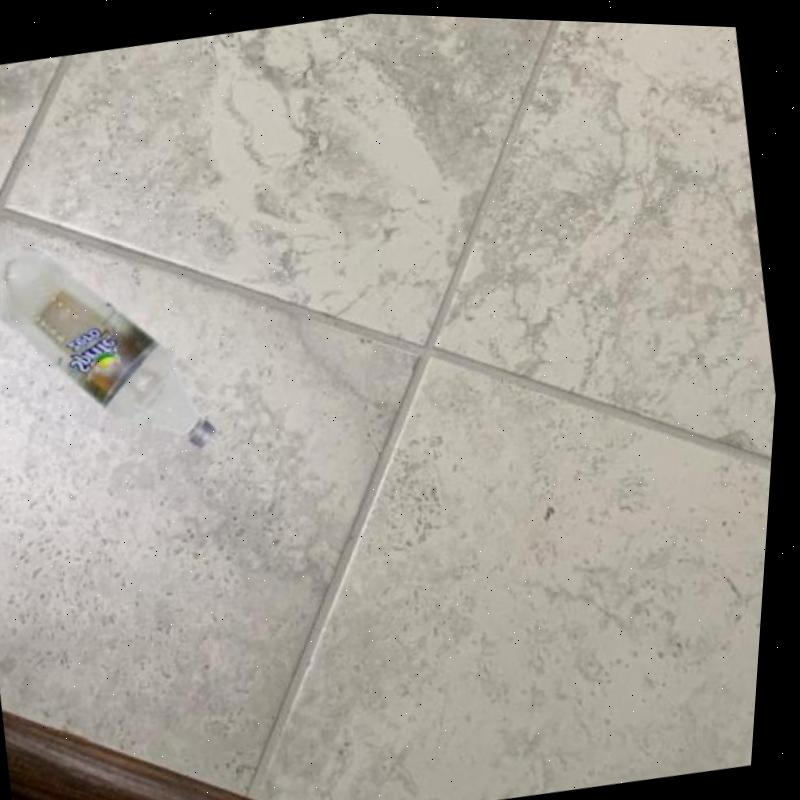botella: (0, 216, 235, 485)
